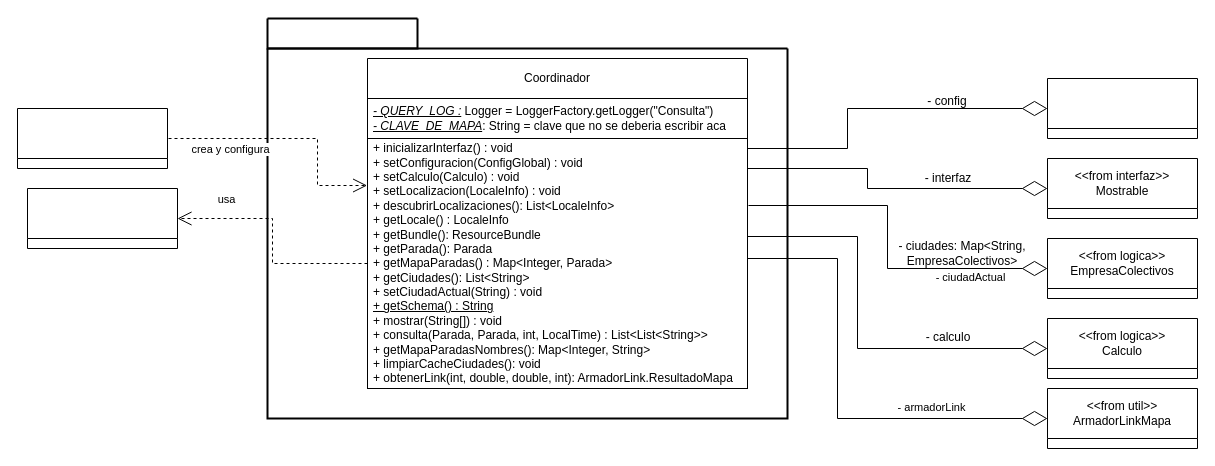
This 1215x466 diagram has some shape labels left out. The shapes that lost their labels are listed below. From the top down, each one's centre as x and y in pixels, then its label:
At (x=342, y=33): "controlador".
At (x=1122, y=108): "<<from configuracion>> ConfigGlobal".
At (x=92, y=138): "<<from app>> AplicacionConsultas".
At (x=102, y=218): "<<from app>> Constantes".
